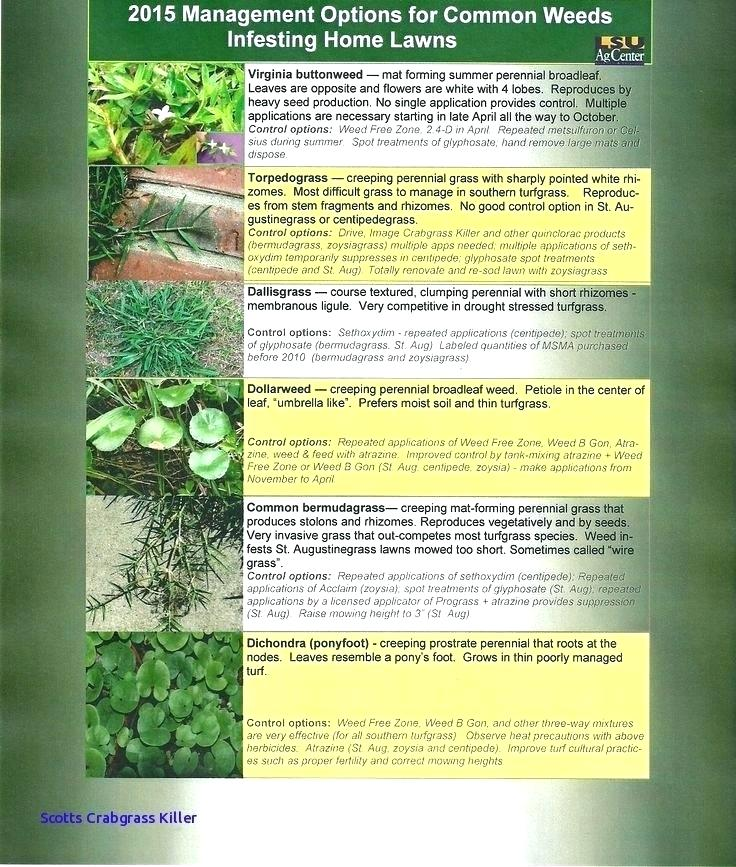crabgrass: (93, 284, 219, 371)
